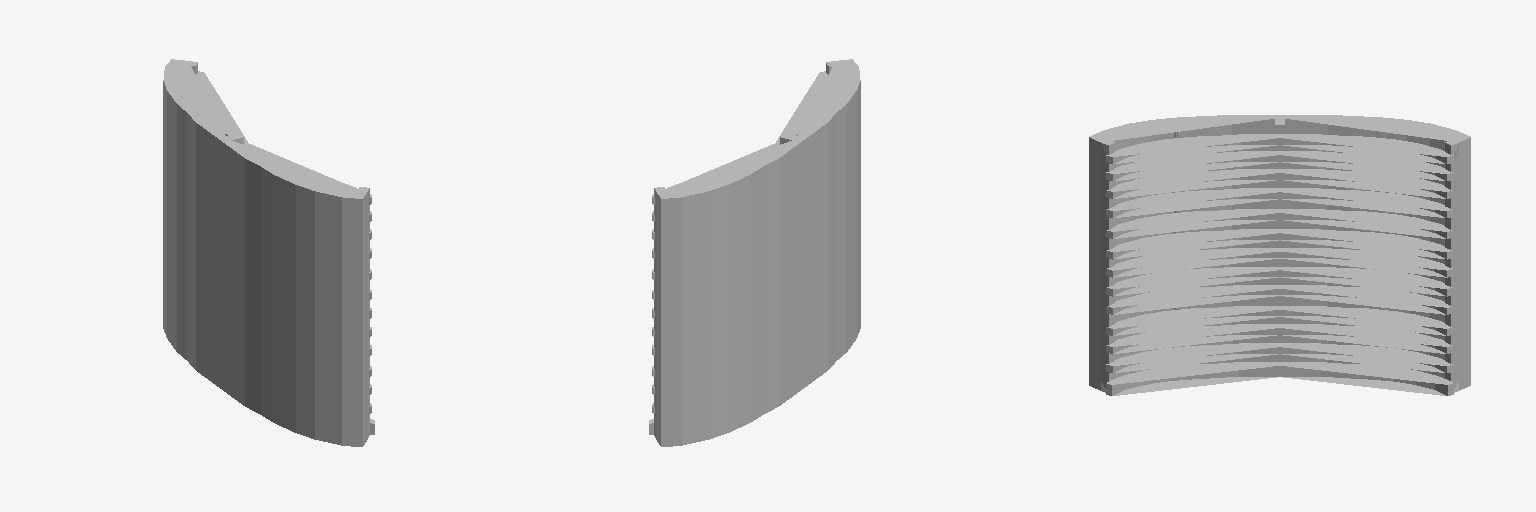
Rendered from wooden stuffSeparate2.obj.
3 renders of one model, left to right at view 1: azimuth 30°, elevation 25°; view 2: azimuth 150°, elevation 25°; view 3: azimuth 270°, elevation 25°, orthographic.
Visible parts, largest first — view 1: Cube; view 2: Cube; view 3: Cube.
Part boxes in pixels (x1,y1,x2,y2): Cube: (163, 59, 374, 446); Cube: (649, 59, 860, 446); Cube: (1089, 115, 1470, 395).
Size of the model in its own units: 4.63 by 15.52 by 21.66.